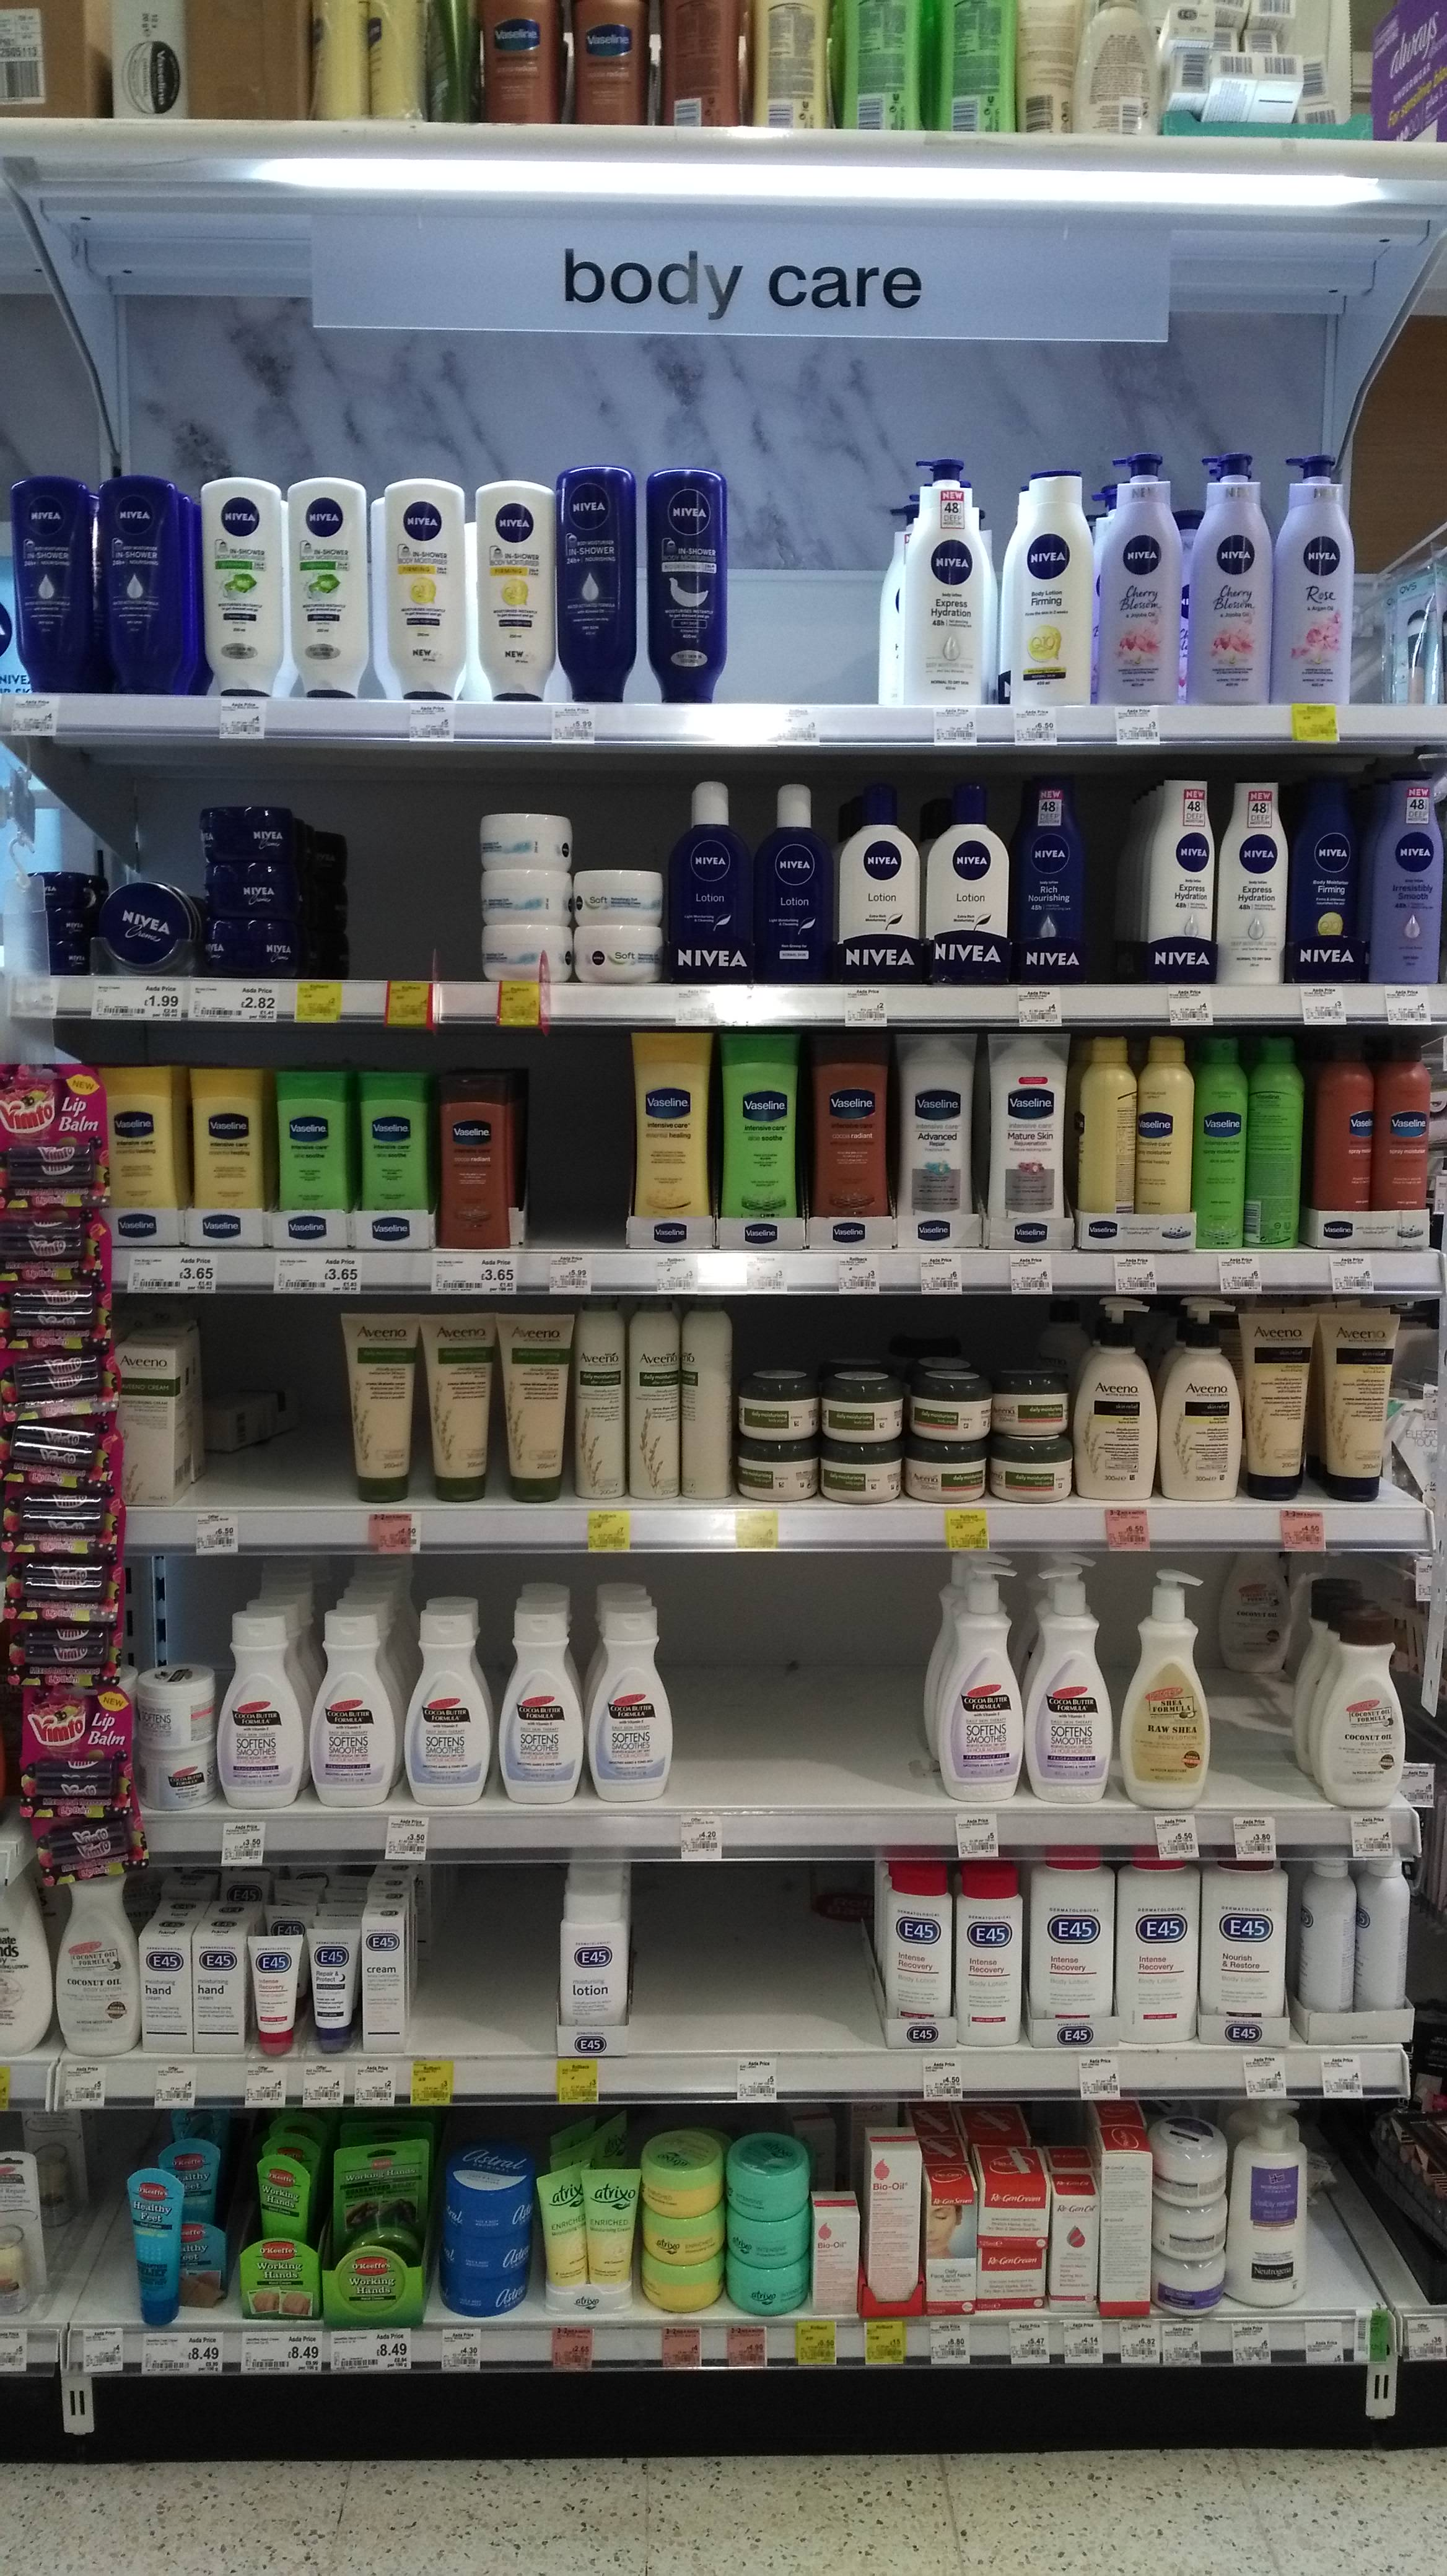Out-of-stock: (531, 1031, 626, 1249)
